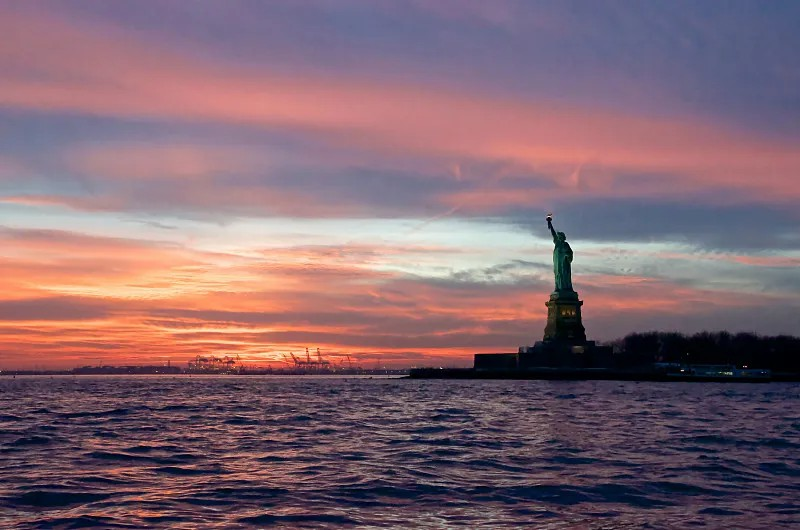SL: (542, 213, 586, 343)
